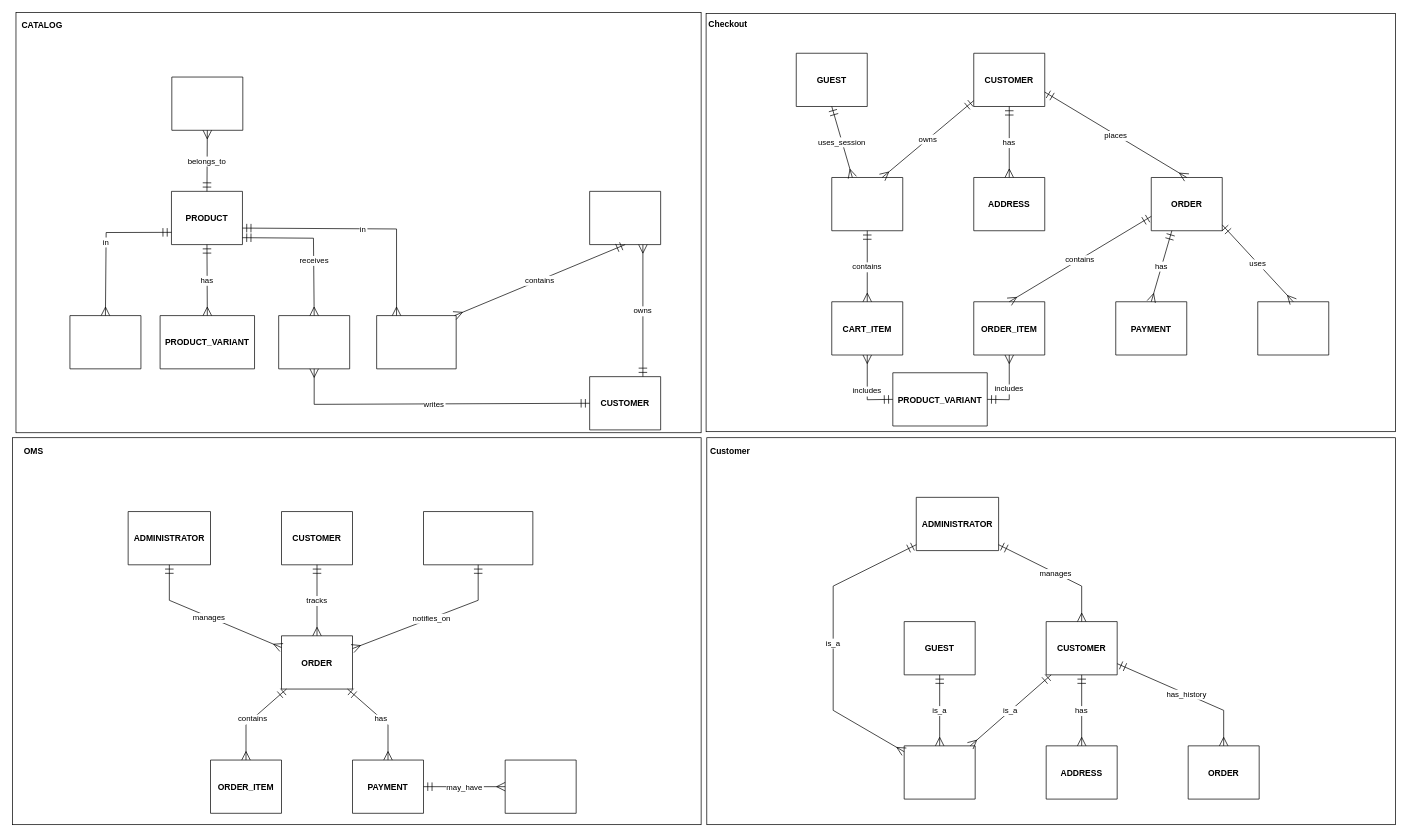
The diagram is 1408 pixels wide and 837 high, and some of its shapes have lost their labels. Each missing label, with the box of its shape:
CART: (831, 177, 903, 231)
CATEGORY: (171, 76, 243, 130)
COLLECTION: (69, 315, 141, 369)
COUPON: (1257, 301, 1329, 355)
NOTIFICATION_SERVICE: (423, 511, 533, 565)
REFUND: (504, 759, 576, 813)
REVIEW: (278, 315, 350, 369)
USER: (903, 745, 975, 799)
WISHLIST: (589, 191, 661, 245)
WISHLIST_ITEM: (376, 315, 456, 369)
